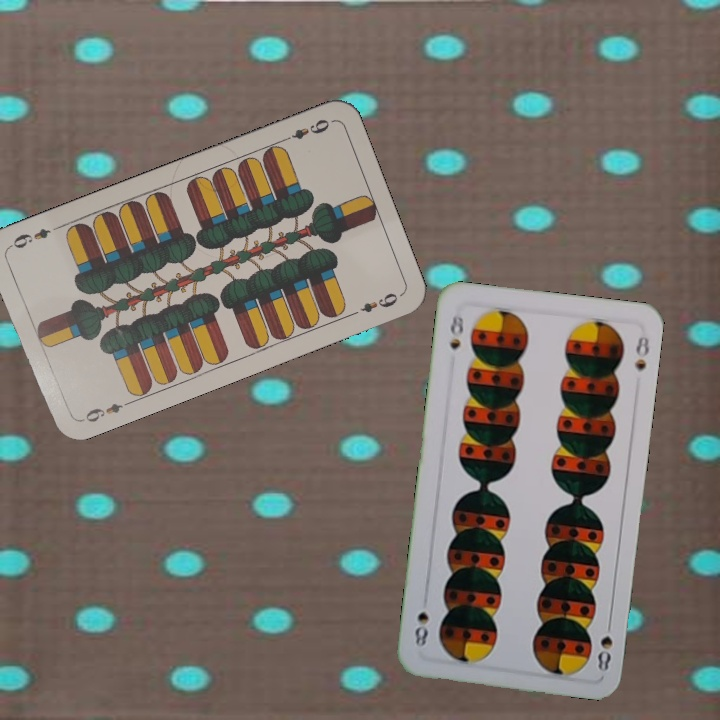E9: (278, 115, 332, 145), (76, 397, 133, 425)
S8: (594, 615, 615, 674), (445, 306, 467, 352)
